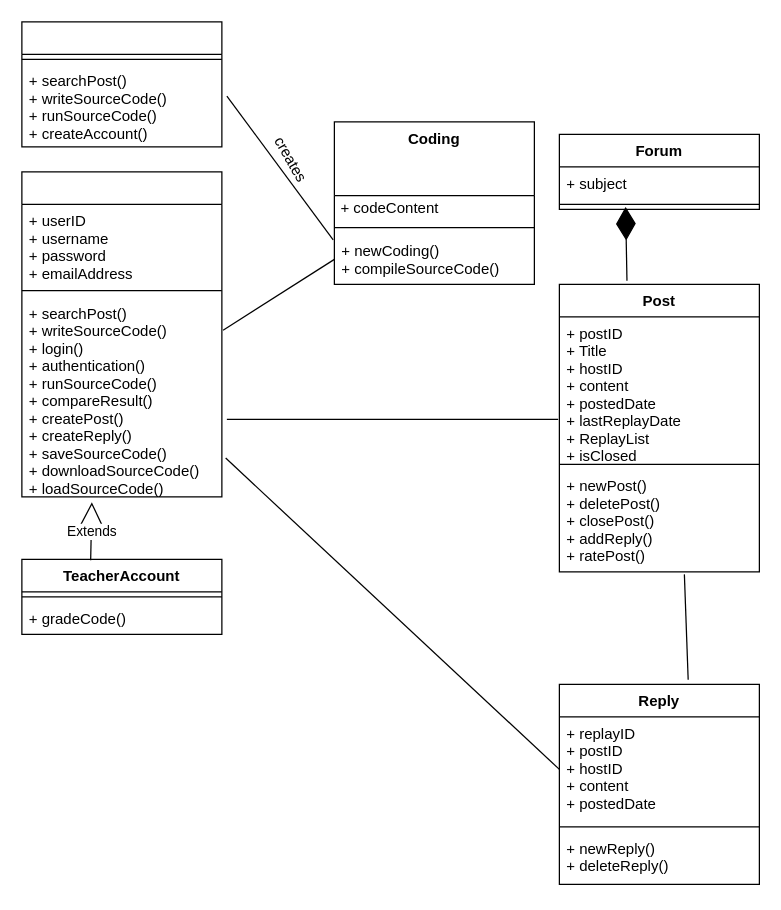
Some shapes in this 781 by 910 pixel diagram are drawn without their labels. The box of each missing label's shape, as (x1, y1, x2, y2) in pixels:
Guest: (21, 21, 222, 147)
UserAccount: (21, 171, 222, 497)
